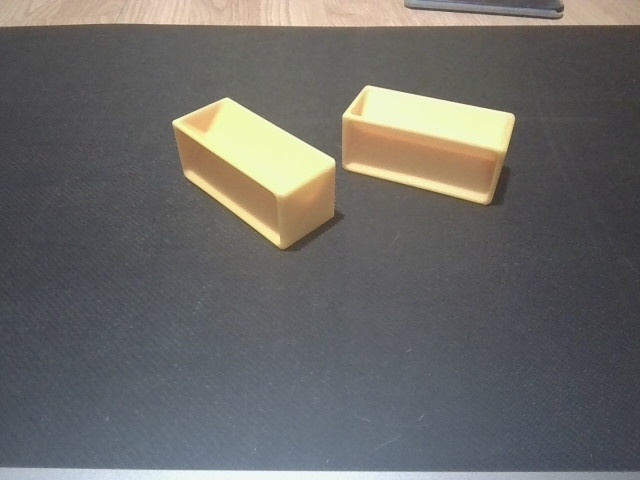YellowSample: (171, 95, 339, 252), (339, 82, 519, 209)
